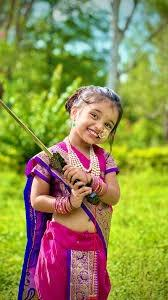Human: (17, 76, 135, 300)
